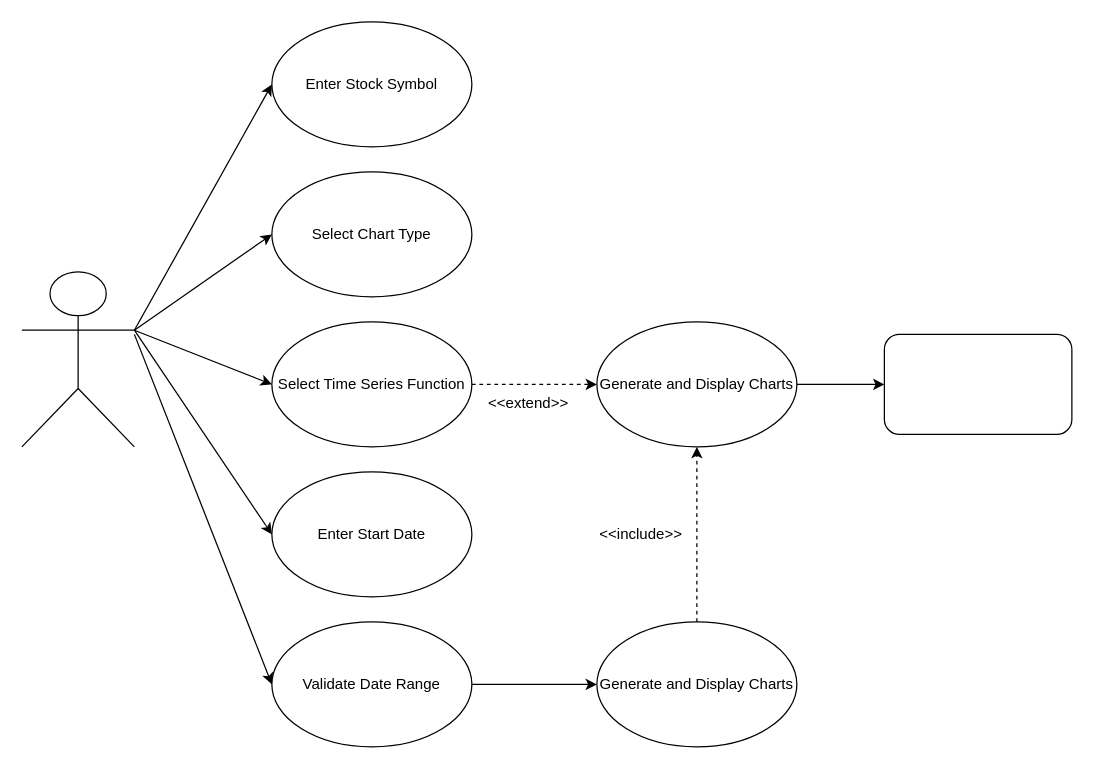
The diagram is 1094 pixels wide and 769 high, and some of its shapes have lost their labels. Each missing label, with the centre of its shape:
"Actor" goes at point (77, 359).
"Alpha Vantage API" goes at point (977, 383).
